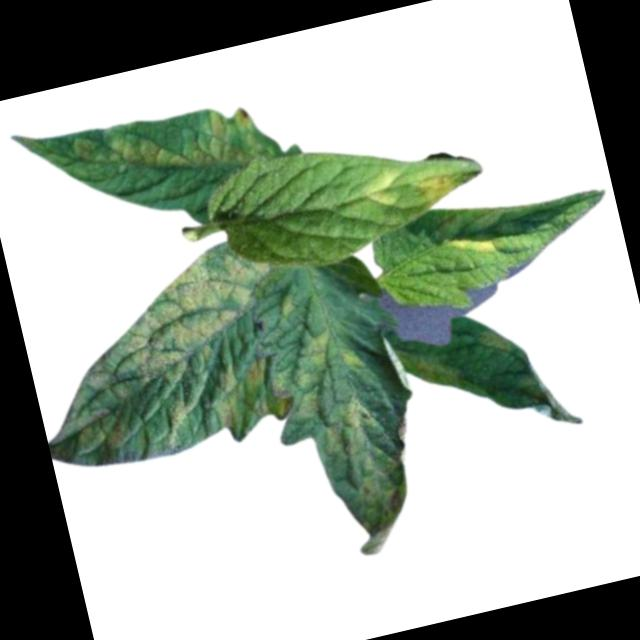Leaf_Mold: (15, 235, 304, 477), (259, 314, 439, 569), (66, 93, 263, 202), (405, 164, 459, 211), (359, 162, 408, 210), (471, 322, 514, 360), (445, 233, 497, 264)
